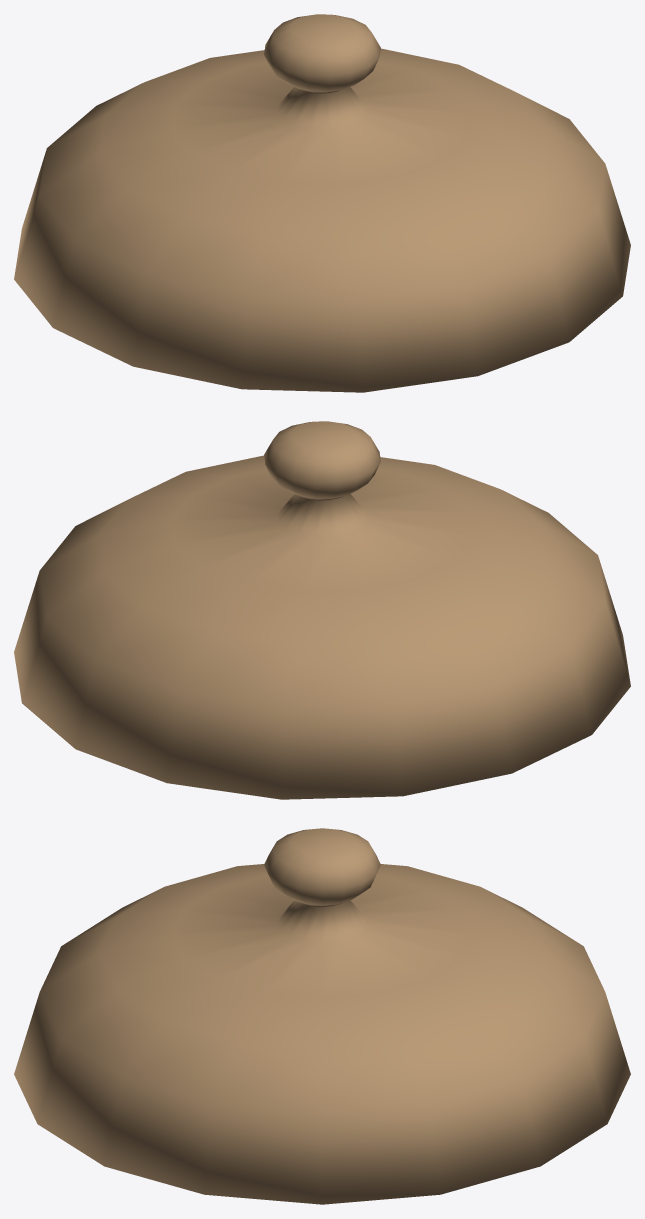
The model's file is bowl_002.fbx.
The picture shows the model from 3 angles, top to bottom: view 1: azimuth 30°, elevation 25°; view 2: azimuth 150°, elevation 25°; view 3: azimuth 270°, elevation 25°; orthographic projection.
Parts seen in each view (by area): view 1: bowl_002; view 2: bowl_002; view 3: bowl_002.
Part boxes in pixels (x1=…): bowl_002: x1=14, y1=14, x2=630, y2=392; bowl_002: x1=14, y1=421, x2=630, y2=799; bowl_002: x1=14, y1=828, x2=630, y2=1204.
Size of the model in its own units: 65 by 27.27 by 65.
1 material, 1 textured.
